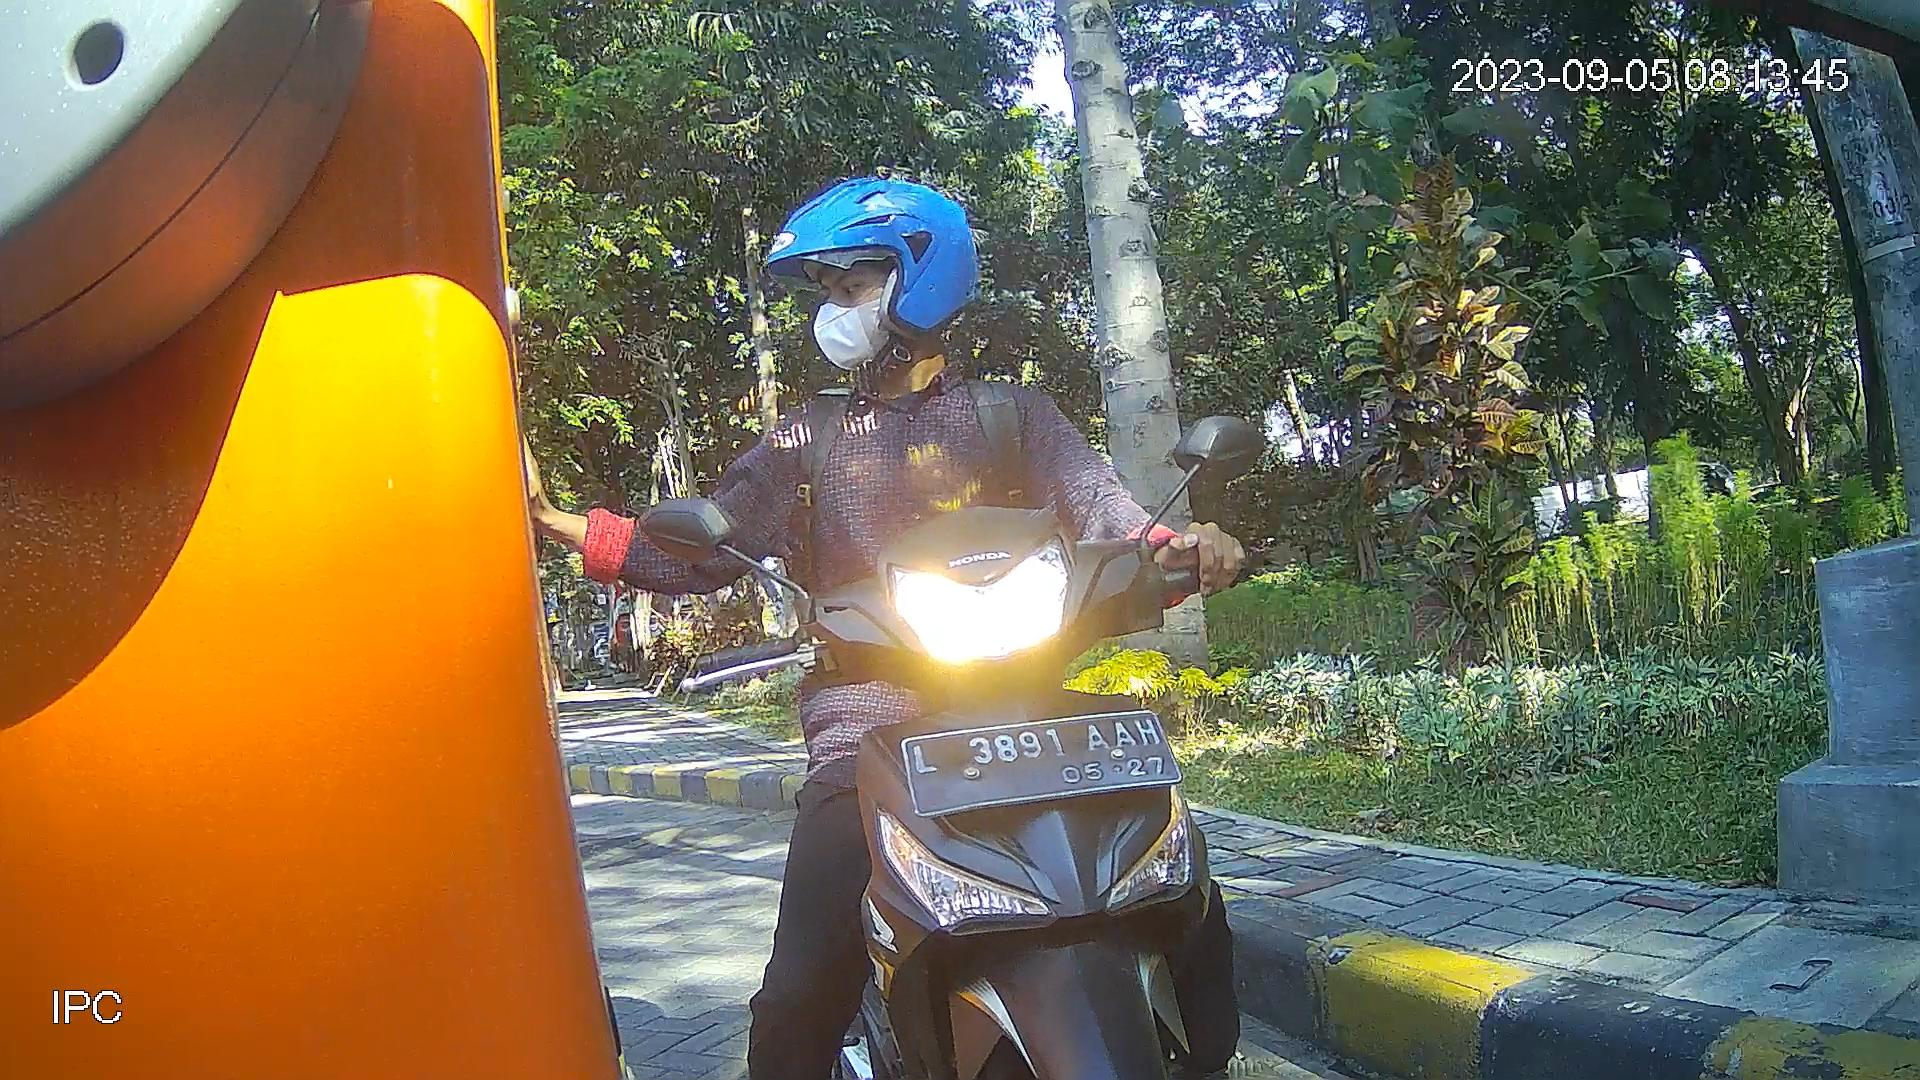plat: (894, 707, 1187, 819)
